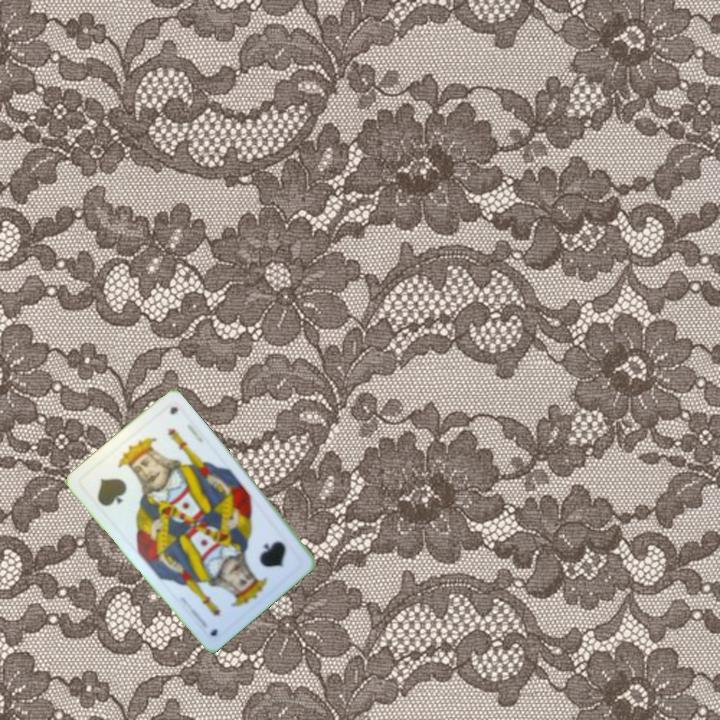s_k.png: (221, 517, 308, 602), (76, 439, 162, 524)
